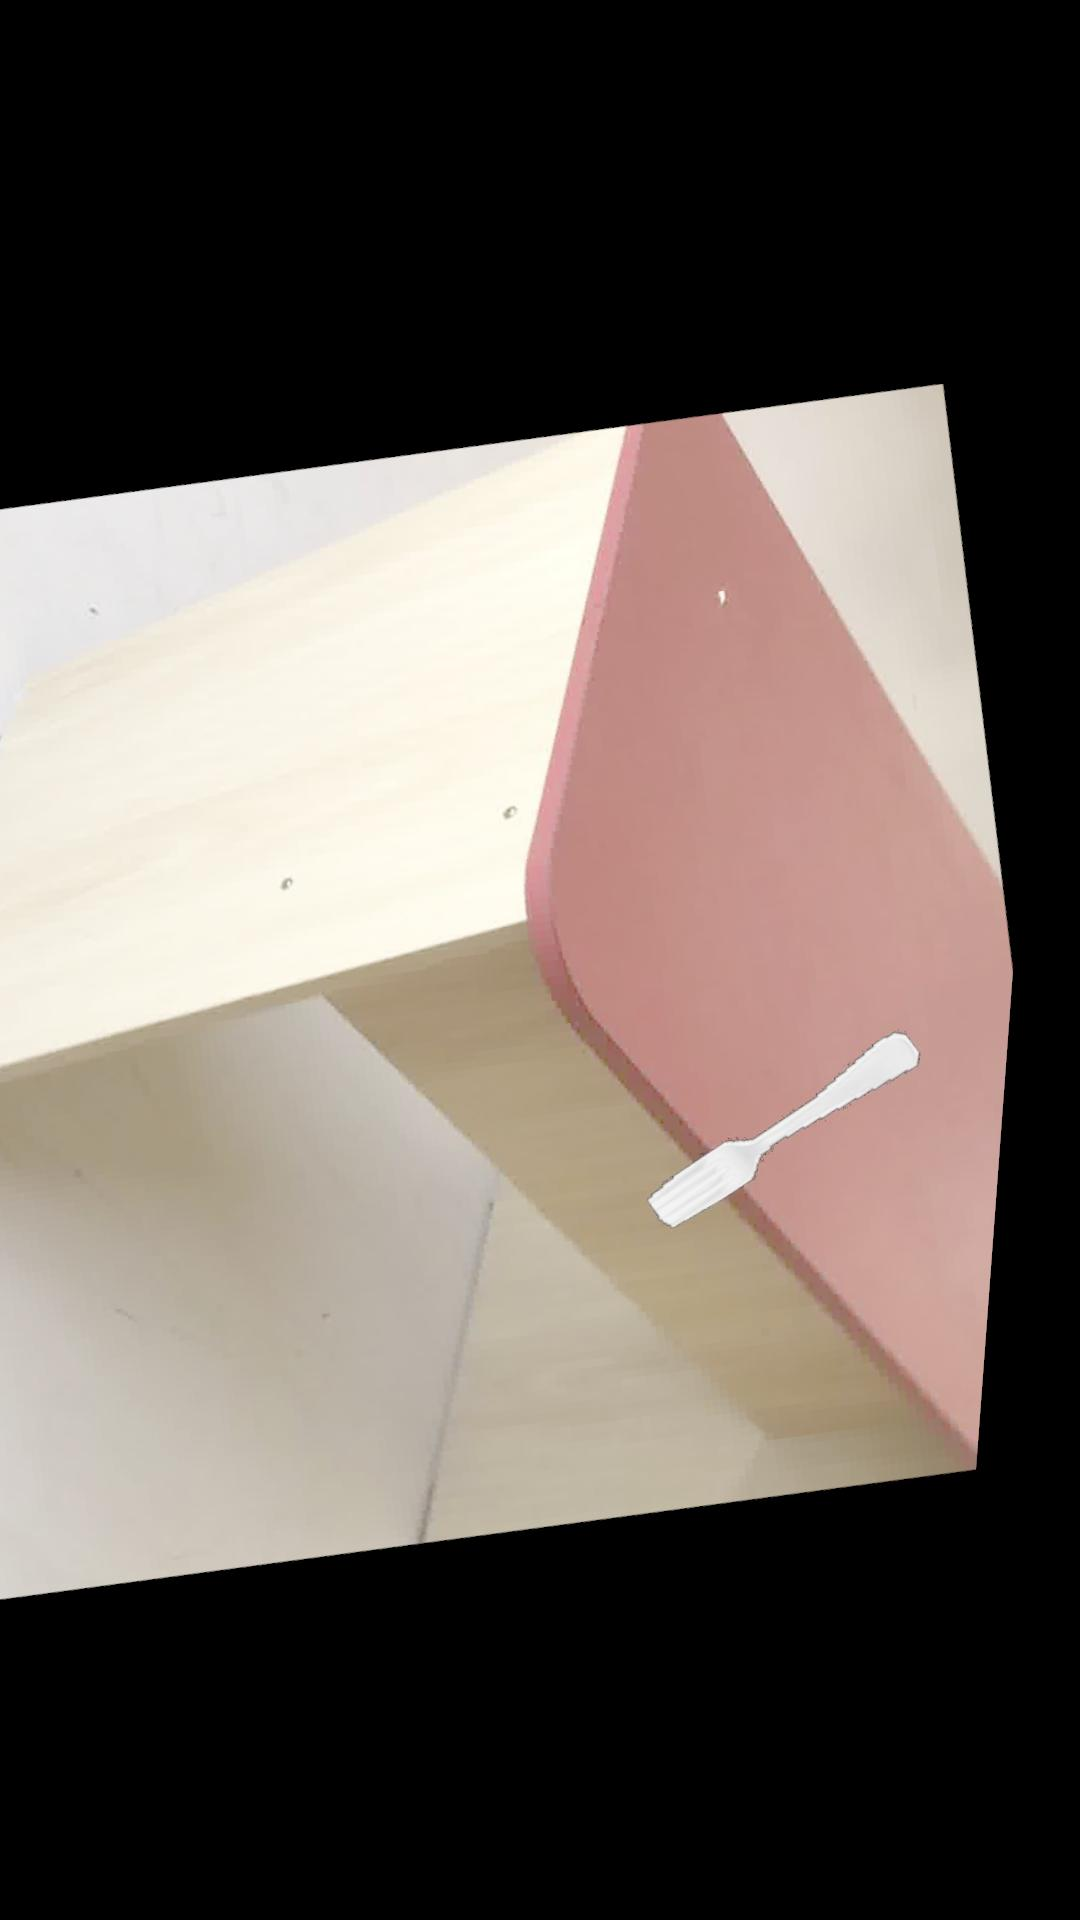fork: (666, 1017, 936, 1217)
